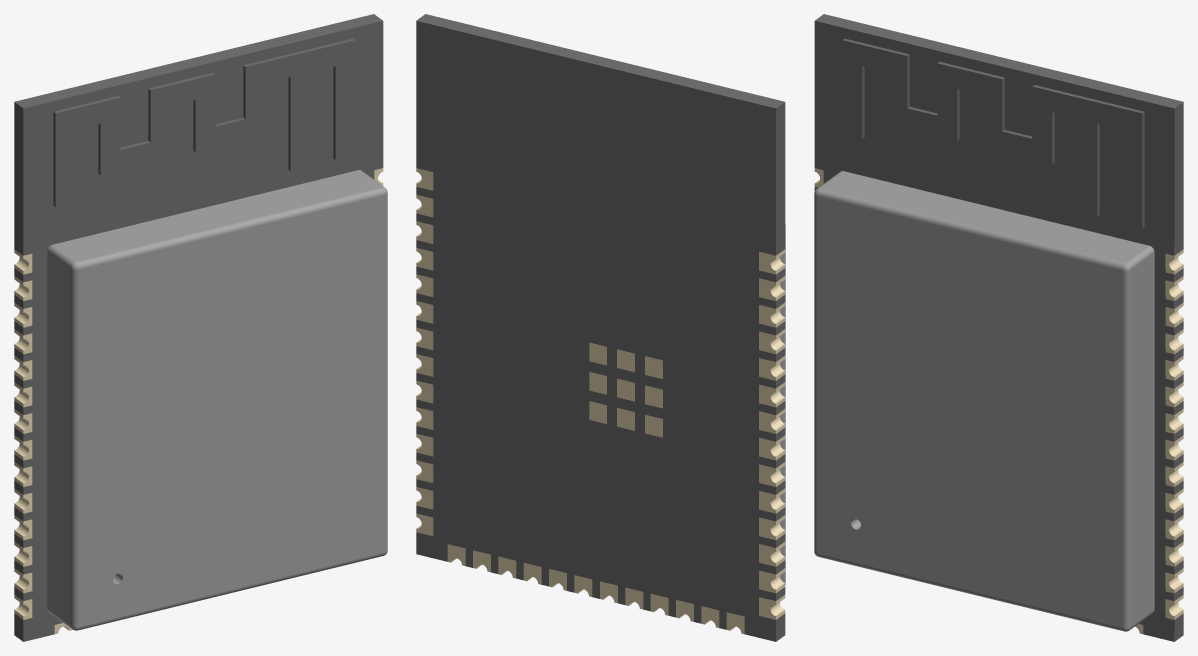
Rendered from ESP32-S3-WROOM-1.glb.
3 views of the same model, side by side, from view 1: azimuth 30°, elevation 25°; view 2: azimuth 150°, elevation 25°; view 3: azimuth 330°, elevation 25° (orthographic).
Visible parts, largest first — view 1: Shape_IndexedFaceSet.493, Shape_IndexedFaceSet.034, Shape_IndexedFaceSet.029, Shape_IndexedFaceSet.486, Shape_IndexedFaceSet.481, Shape_IndexedFaceSet.030, Shape_IndexedFaceSet.494, Shape_IndexedFaceSet.485, Shape_IndexedFaceSet.031, Shape_IndexedFaceSet.498, Shape_IndexedFaceSet.495; view 2: Shape_IndexedFaceSet.033, Shape_IndexedFaceSet.030, Shape_IndexedFaceSet.031, Shape_IndexedFaceSet.486; view 3: Shape_IndexedFaceSet.493, Shape_IndexedFaceSet.034, Shape_IndexedFaceSet.029, Shape_IndexedFaceSet.487, Shape_IndexedFaceSet.481, Shape_IndexedFaceSet.030, Shape_IndexedFaceSet.495, Shape_IndexedFaceSet.485, Shape_IndexedFaceSet.032, Shape_IndexedFaceSet.498, Shape_IndexedFaceSet.494.
Part boxes in pixels (x1=…): Shape_IndexedFaceSet.493: x1=79, y1=195, x2=384, y2=626; Shape_IndexedFaceSet.034: x1=23, y1=21, x2=383, y2=641; Shape_IndexedFaceSet.029: x1=55, y1=40, x2=355, y2=207; Shape_IndexedFaceSet.486: x1=47, y1=251, x2=70, y2=625; Shape_IndexedFaceSet.481: x1=53, y1=170, x2=381, y2=261; Shape_IndexedFaceSet.030: x1=14, y1=14, x2=382, y2=108; Shape_IndexedFaceSet.494: x1=71, y1=268, x2=78, y2=627; Shape_IndexedFaceSet.485: x1=76, y1=187, x2=384, y2=269; Shape_IndexedFaceSet.031: x1=14, y1=102, x2=23, y2=255; Shape_IndexedFaceSet.498: x1=78, y1=552, x2=384, y2=630; Shape_IndexedFaceSet.495: x1=385, y1=193, x2=387, y2=552; Shape_IndexedFaceSet.033: x1=416, y1=21, x2=775, y2=641; Shape_IndexedFaceSet.030: x1=416, y1=14, x2=784, y2=108; Shape_IndexedFaceSet.031: x1=776, y1=102, x2=785, y2=255; Shape_IndexedFaceSet.486: x1=779, y1=253, x2=784, y2=582; Shape_IndexedFaceSet.493: x1=817, y1=196, x2=1122, y2=627; Shape_IndexedFaceSet.034: x1=814, y1=21, x2=1174, y2=641; Shape_IndexedFaceSet.029: x1=842, y1=40, x2=1142, y2=228; Shape_IndexedFaceSet.487: x1=1131, y1=252, x2=1154, y2=626; Shape_IndexedFaceSet.481: x1=820, y1=171, x2=1148, y2=262; Shape_IndexedFaceSet.030: x1=815, y1=14, x2=1183, y2=108; Shape_IndexedFaceSet.495: x1=1123, y1=269, x2=1130, y2=628; Shape_IndexedFaceSet.485: x1=817, y1=188, x2=1125, y2=270; Shape_IndexedFaceSet.032: x1=1174, y1=102, x2=1183, y2=255; Shape_IndexedFaceSet.498: x1=817, y1=553, x2=1123, y2=631; Shape_IndexedFaceSet.494: x1=814, y1=194, x2=816, y2=553.
Size of the model in its own units: 7.09 by 10.04 by 1.22.
